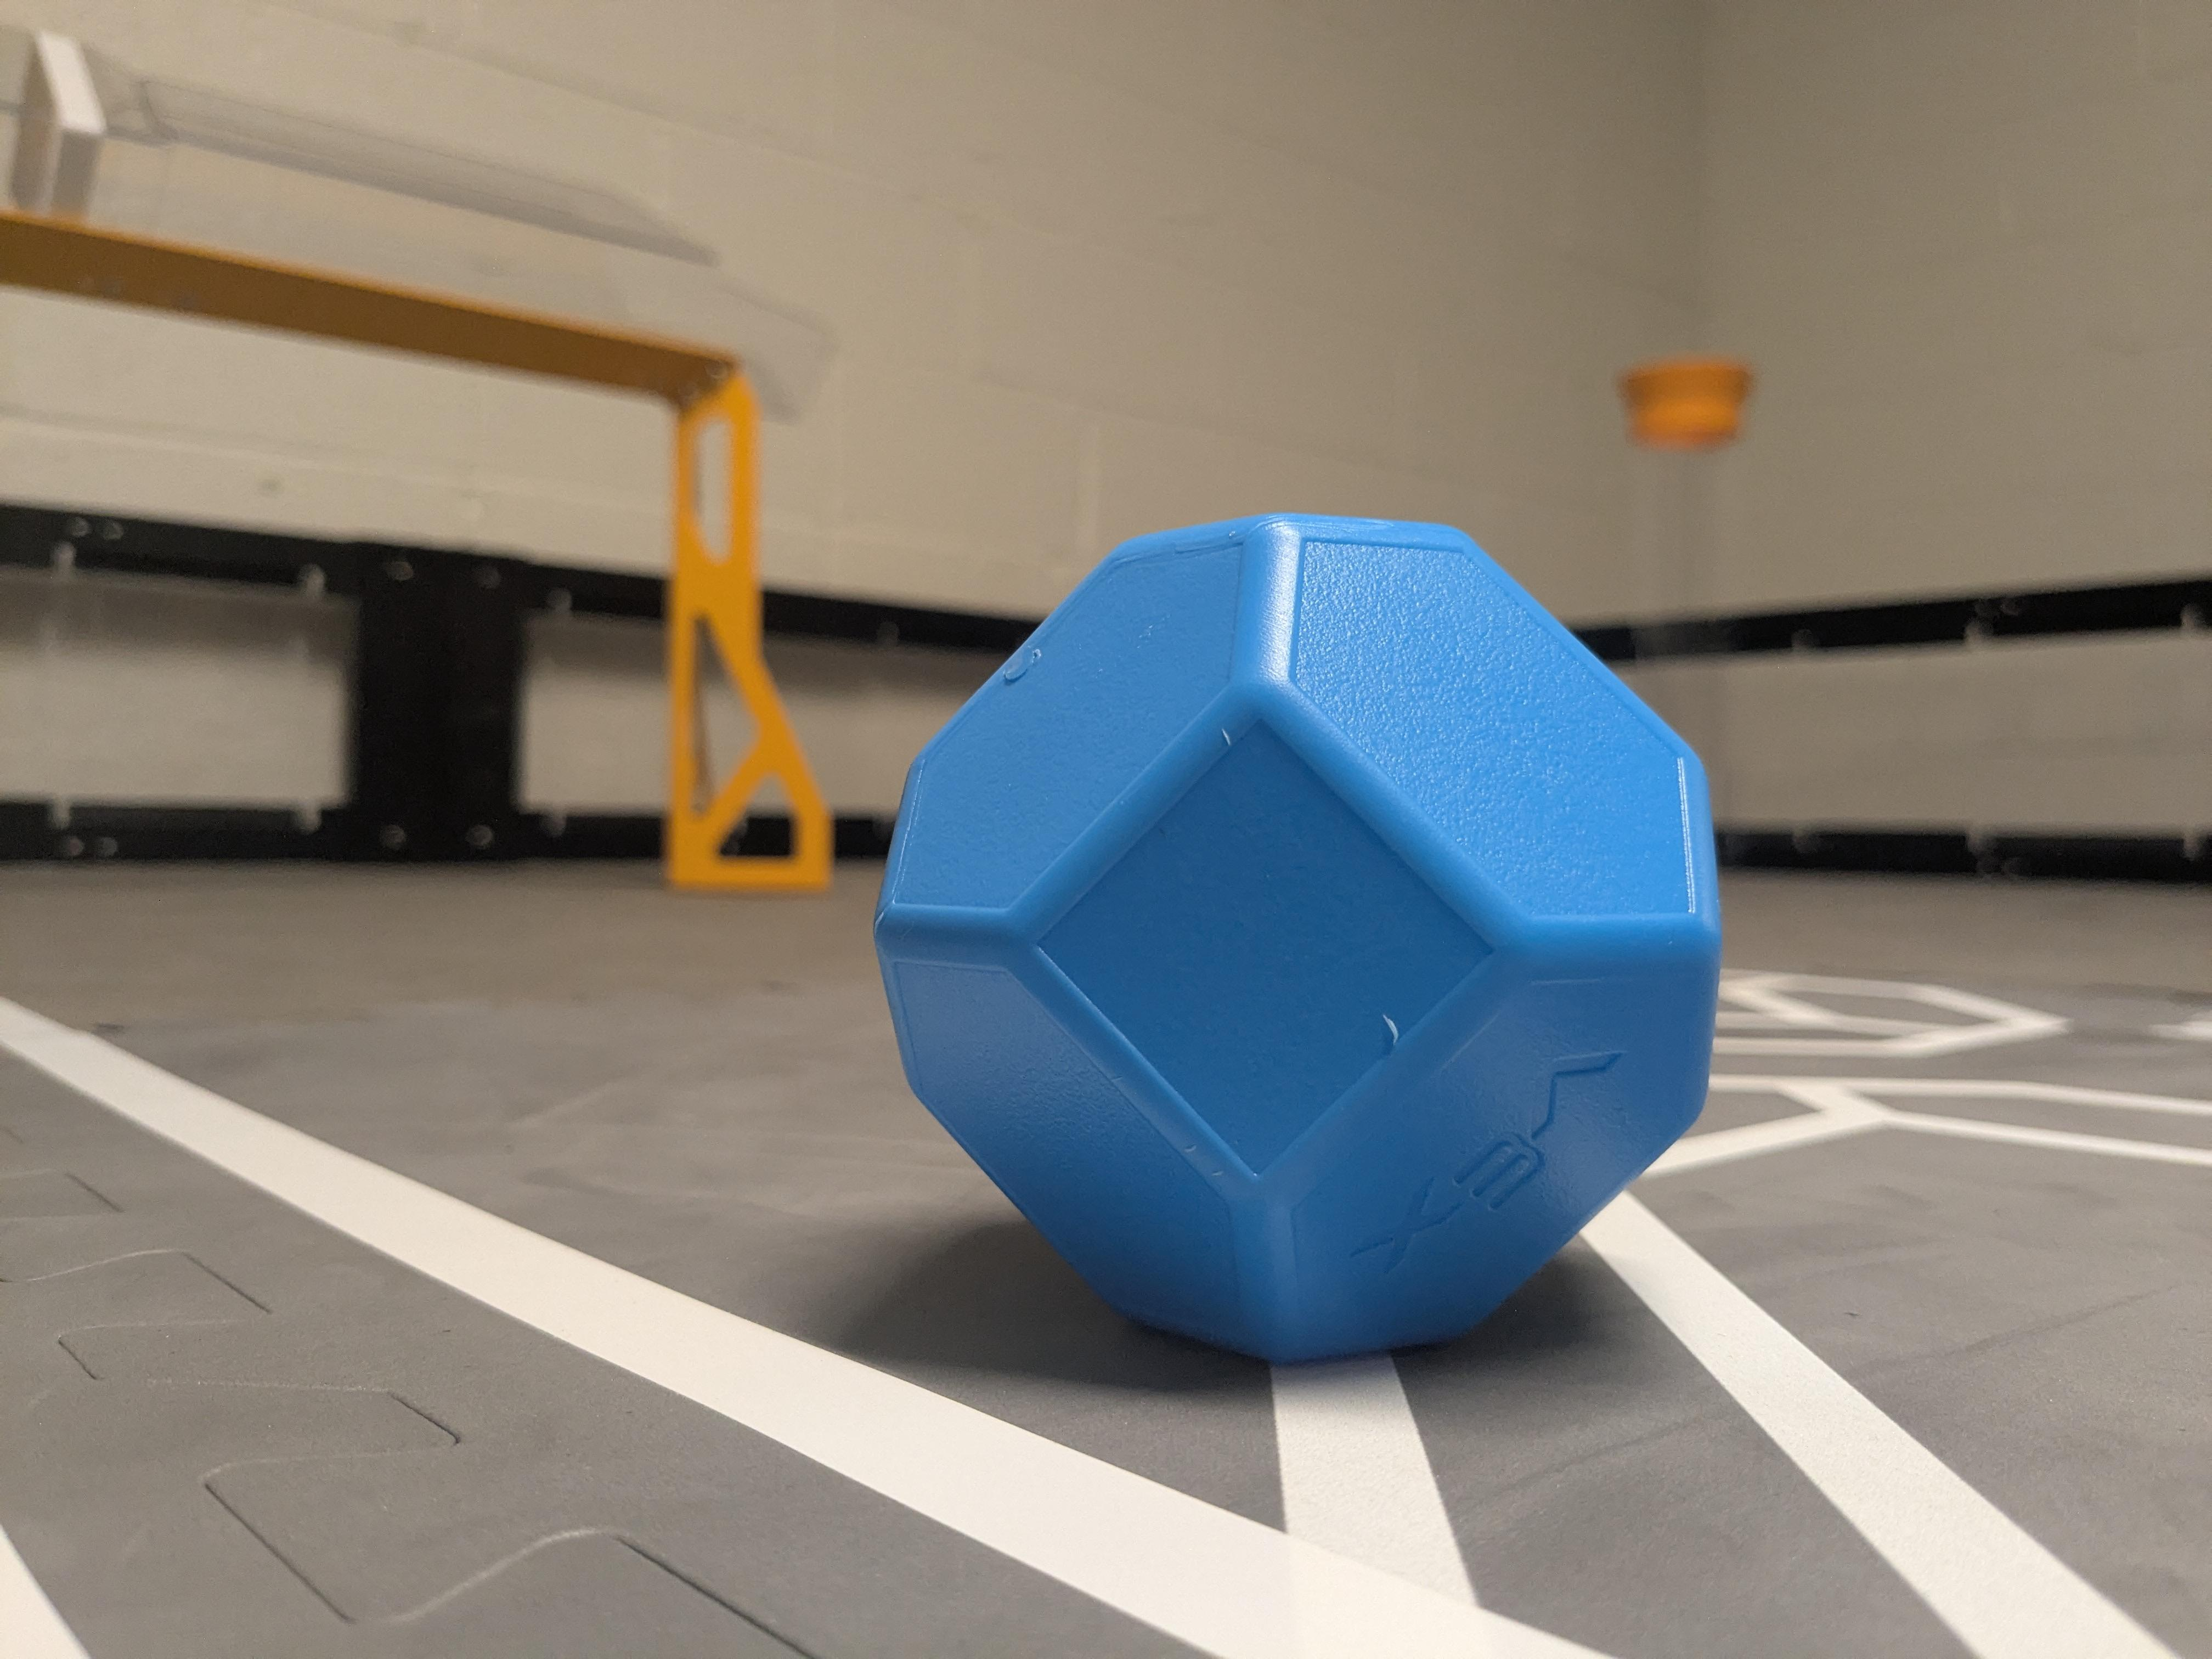Vex-Pieces-BLUE: (876, 516, 1719, 1361)
